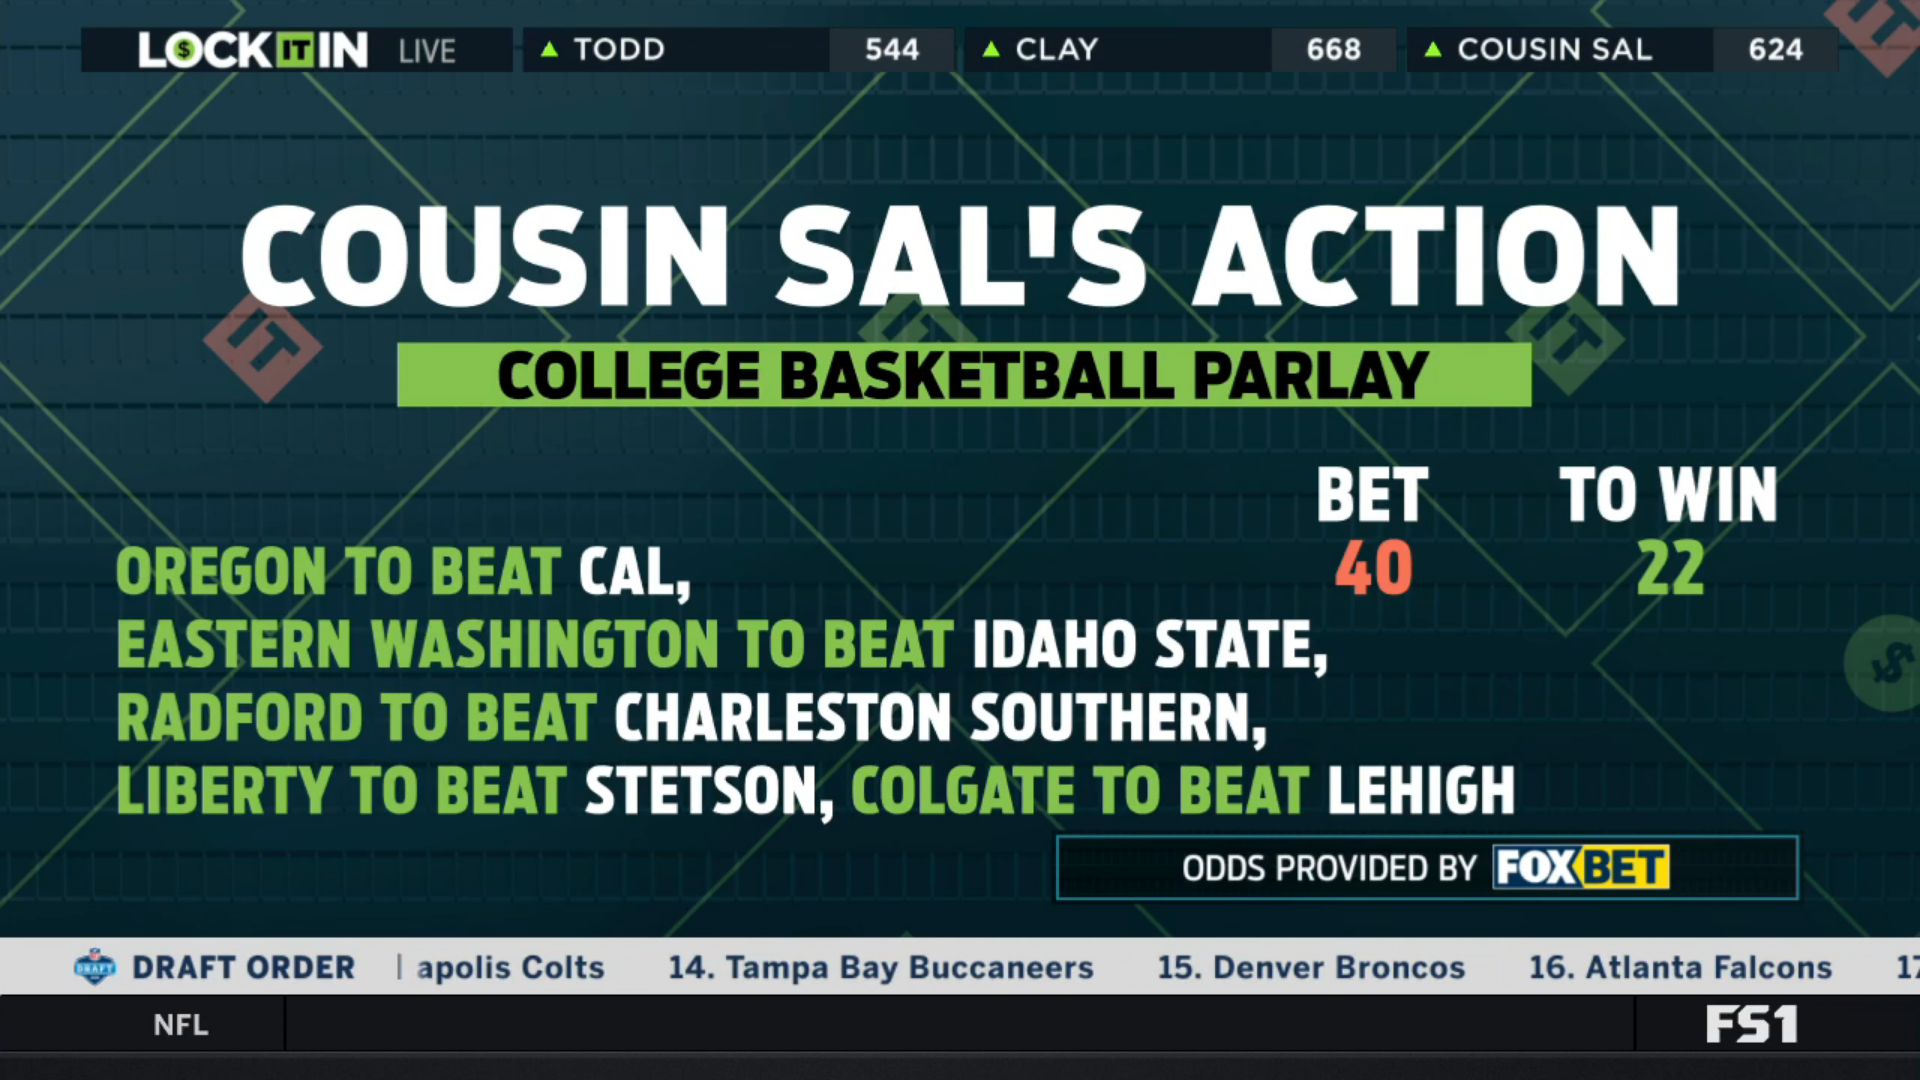Bet: (105, 531, 1528, 827)
Bet Amount: (1300, 448, 1440, 605)
Subtitle: (388, 332, 1545, 419)
Title: (227, 189, 1700, 324)
To Win: (1549, 448, 1788, 609)
Top Bar: (73, 17, 1847, 80)
